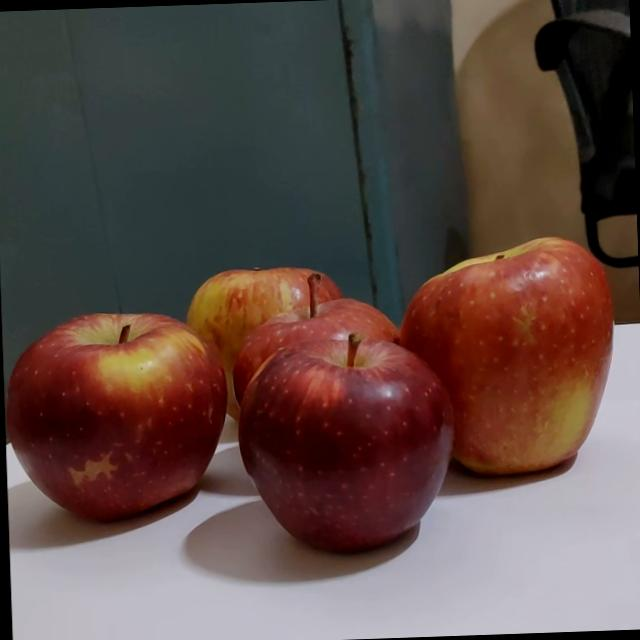apple: (1, 313, 242, 532), (382, 231, 598, 474), (255, 320, 474, 548), (225, 268, 400, 482), (153, 258, 312, 441)
